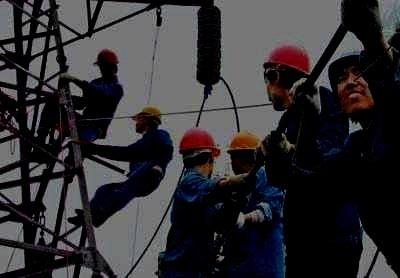helmet: (262, 42, 312, 112), (327, 47, 375, 115), (178, 127, 221, 178), (226, 131, 263, 176), (132, 105, 162, 135), (92, 48, 120, 75)
